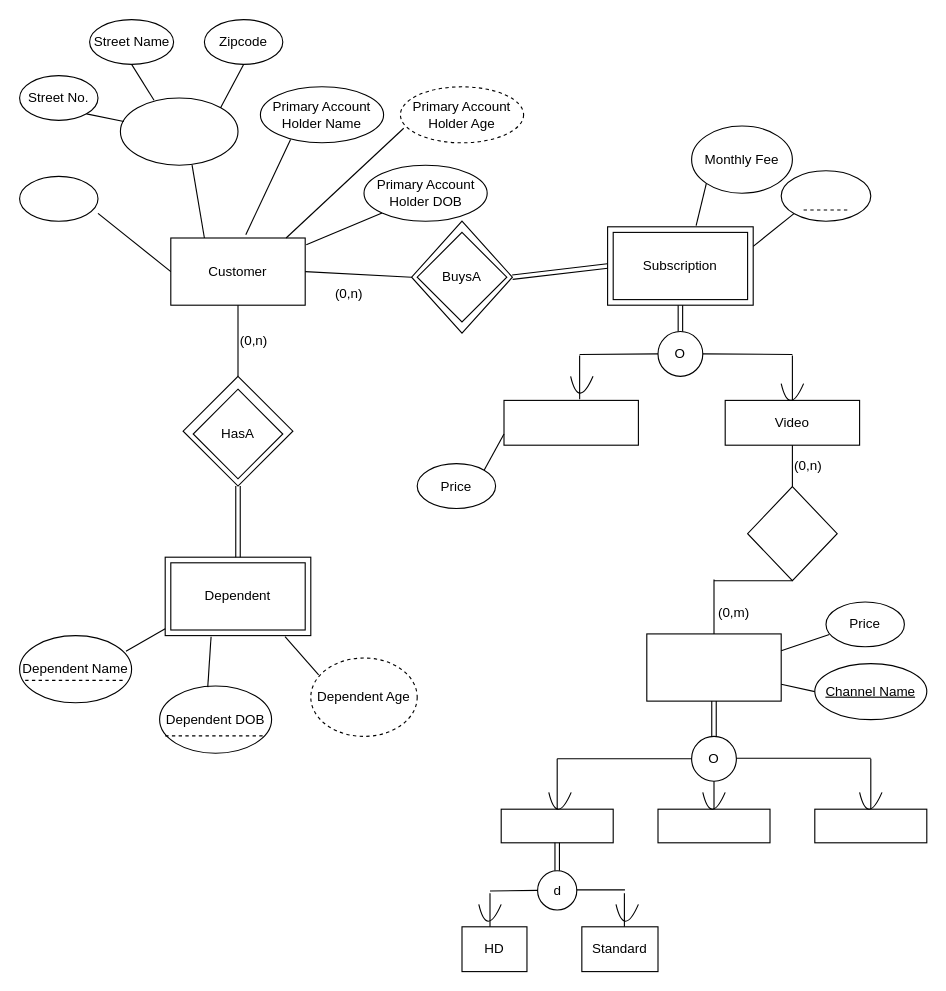
Some shapes in this 946 by 991 pixel diagram are drawn without their labels. The box of each missing label's shape, as (x1, y1, x2, y2) in pixels:
Account No.: (18, 175, 98, 221)
Billing Address: (119, 97, 238, 165)
Channel: (646, 633, 781, 701)
Device Name: (780, 170, 871, 221)
Includes: (746, 486, 837, 581)
Movies: (500, 808, 613, 843)
Music: (503, 399, 638, 445)
News: (814, 808, 927, 843)
Sports: (657, 808, 770, 843)
